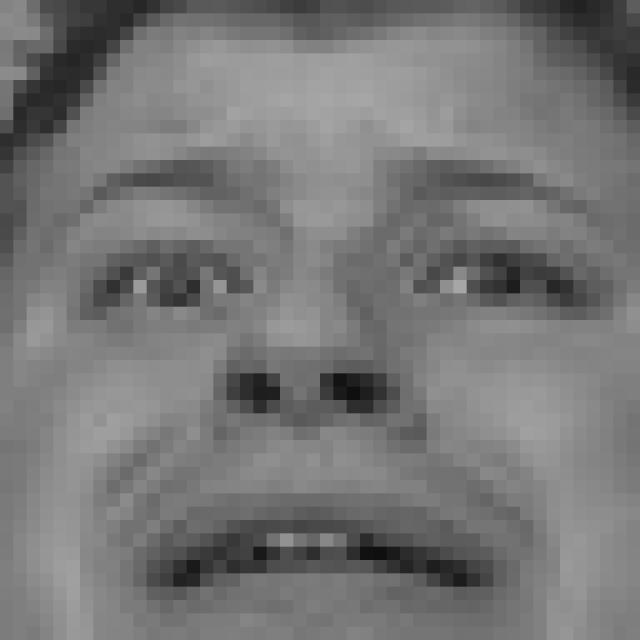fear: (63, 132, 622, 640)
